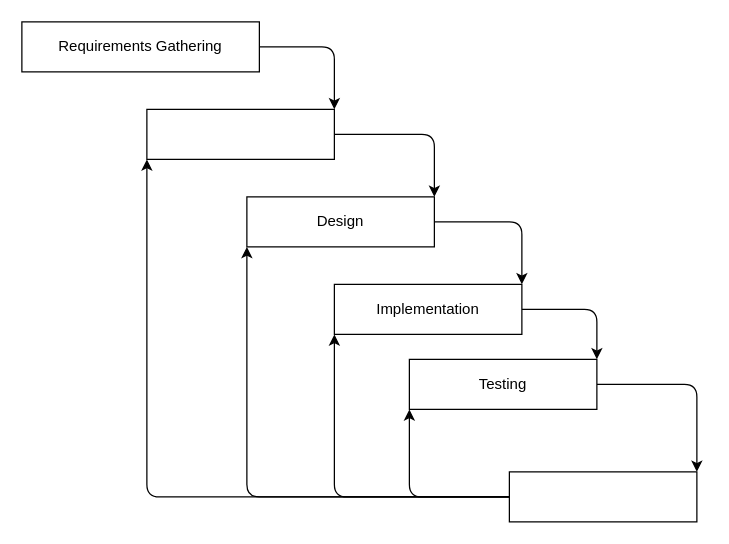
Image size: 729x544. Some labels were removed from this diagram. The centre of each missing label's shape, as x and y in pixels:
"Analysis and Specification" goes at point 240,133.
"Deployment and Maintainence" goes at point 602,496.
